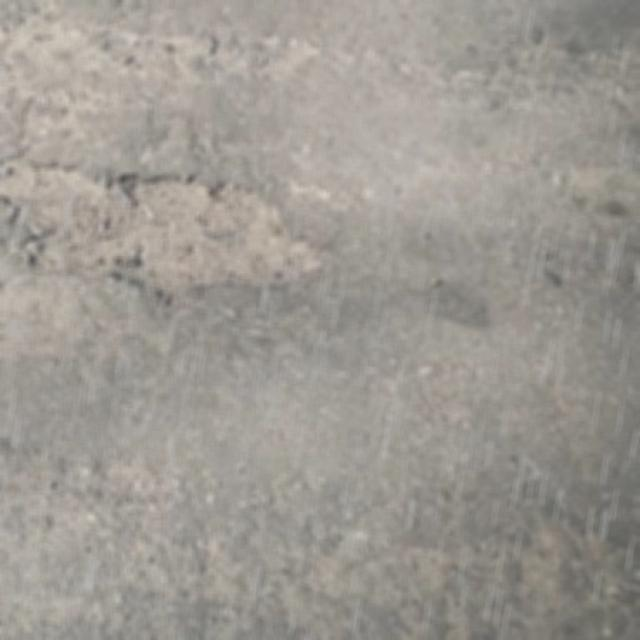road-pothole: (0, 161, 366, 332)
